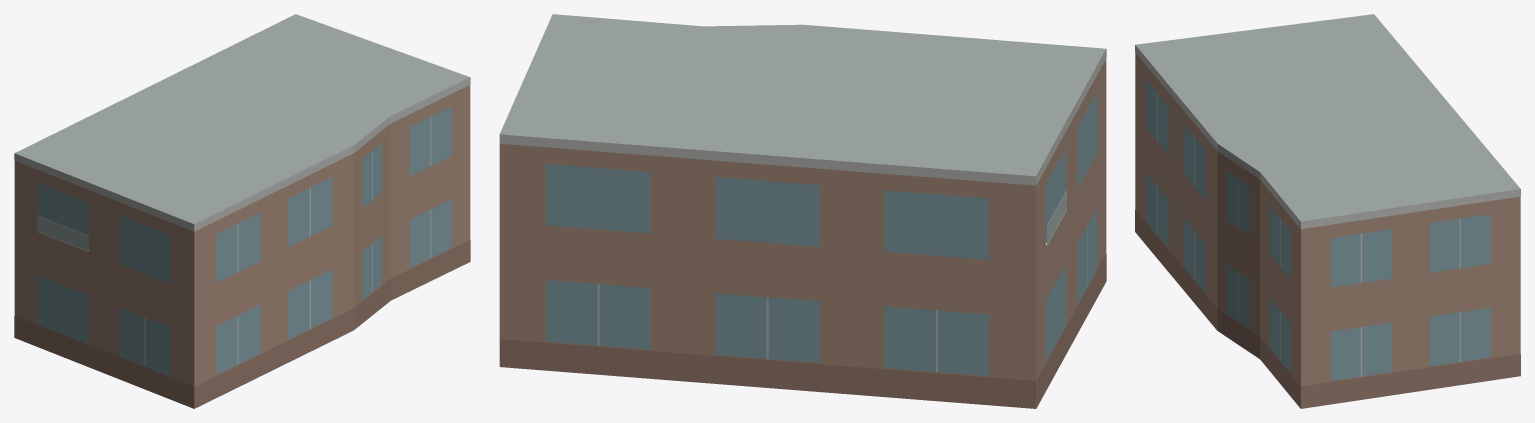
Rendered from survey-upis-32678410.glb.
3 views of the same model, side by side, from view 1: azimuth 30°, elevation 25°; view 2: azimuth 150°, elevation 25°; view 3: azimuth 270°, elevation 25° (orthographic). The views are drawn at different scales.
Visible parts, largest first — view 1: survey-upis-32678410.tmp; view 2: survey-upis-32678410.tmp; view 3: survey-upis-32678410.tmp.
Boxes of the visible parts, x1,y1,x2,y2 form: survey-upis-32678410.tmp: (14, 14, 470, 408); survey-upis-32678410.tmp: (499, 14, 1106, 408); survey-upis-32678410.tmp: (1135, 14, 1520, 408).
Bounding box in the file's own units: 14.54 × 6.1 × 11.41.
